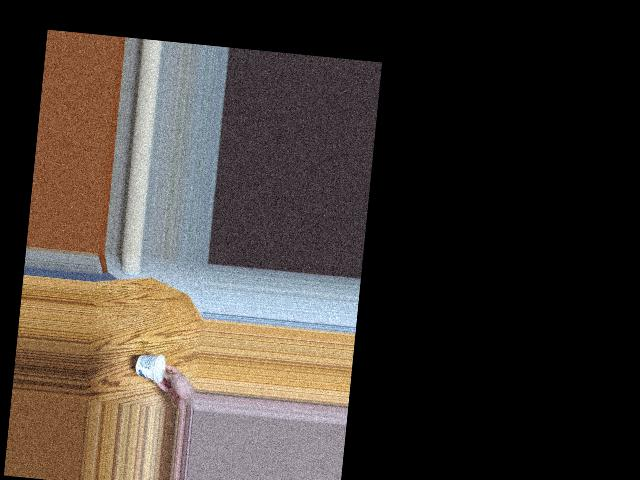cotage: (137, 358, 169, 383)
